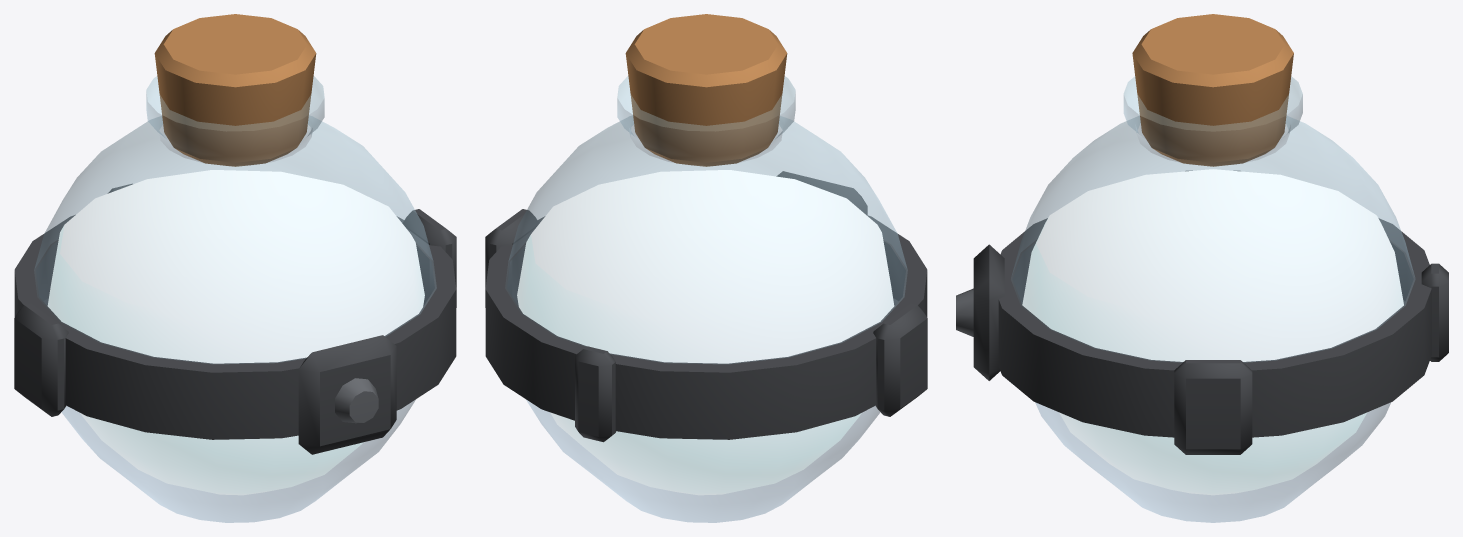
File: shield_potion.glb
3 views of the same model, side by side, from view 1: azimuth 30°, elevation 25°; view 2: azimuth 150°, elevation 25°; view 3: azimuth 270°, elevation 25° (orthographic).
Parts seen in each view (by area): view 1: potion_glass, potion_liquid, potion_belt, potion_cork; view 2: potion_glass, potion_liquid, potion_belt, potion_cork; view 3: potion_glass, potion_liquid, potion_belt, potion_cork.
Part boxes in pixels (x1,y1,x2,y2): potion_glass: [34, 76, 436, 522]; potion_liquid: [47, 170, 424, 495]; potion_belt: [14, 183, 456, 454]; potion_cork: [154, 14, 316, 166]; potion_glass: [505, 76, 907, 522]; potion_liquid: [517, 170, 894, 495]; potion_belt: [485, 171, 927, 442]; potion_cork: [625, 14, 787, 166]; potion_glass: [1011, 76, 1415, 522]; potion_liquid: [1022, 169, 1403, 495]; potion_belt: [956, 170, 1448, 454]; potion_cork: [1132, 14, 1293, 166].
Size of the model in its own units: 0.2458 by 0.25 by 0.2528.
